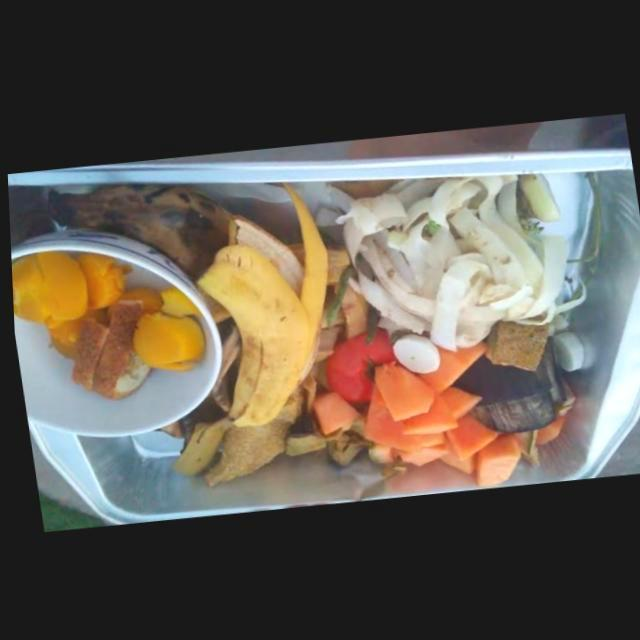left_over_food: (68, 287, 161, 398)
